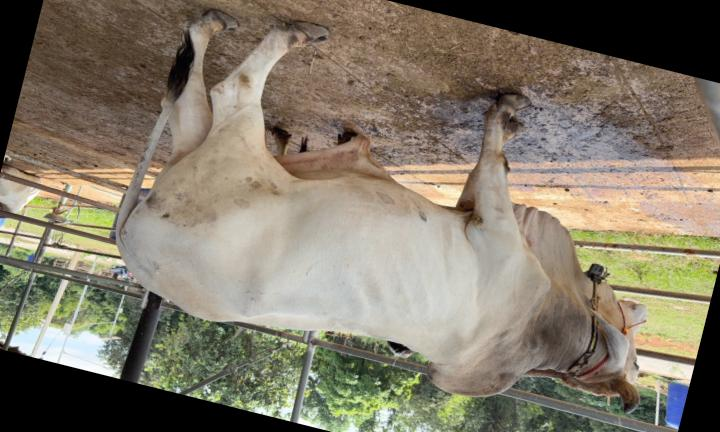Brahman: (116, 10, 645, 413)
